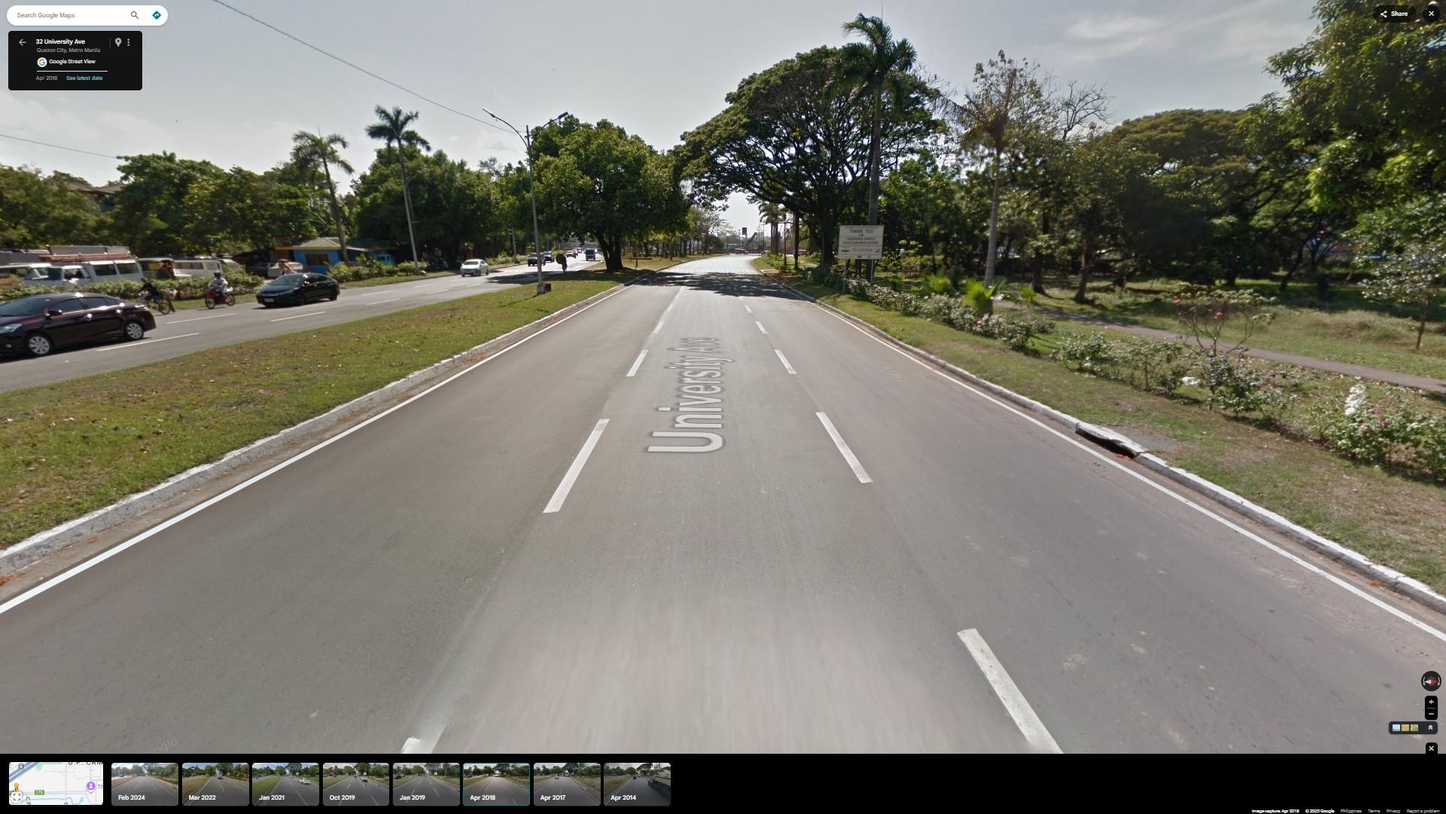cyclist: (129, 276, 176, 315), (555, 253, 568, 273)
